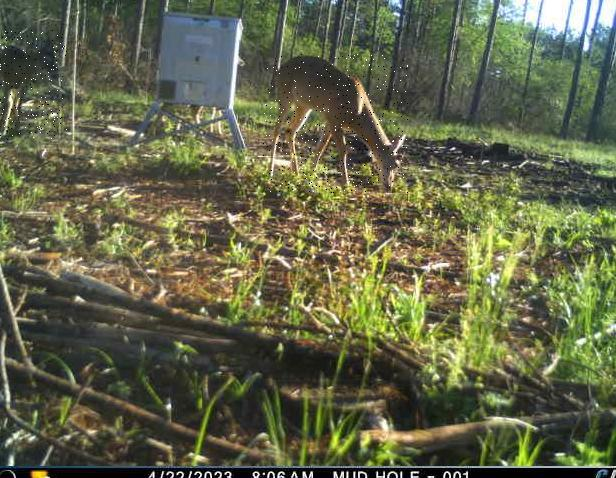Deer: (263, 54, 408, 193), (0, 30, 67, 140)
